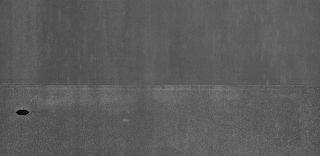punching hole: (15, 108, 31, 118)
welding line: (0, 81, 318, 91)
